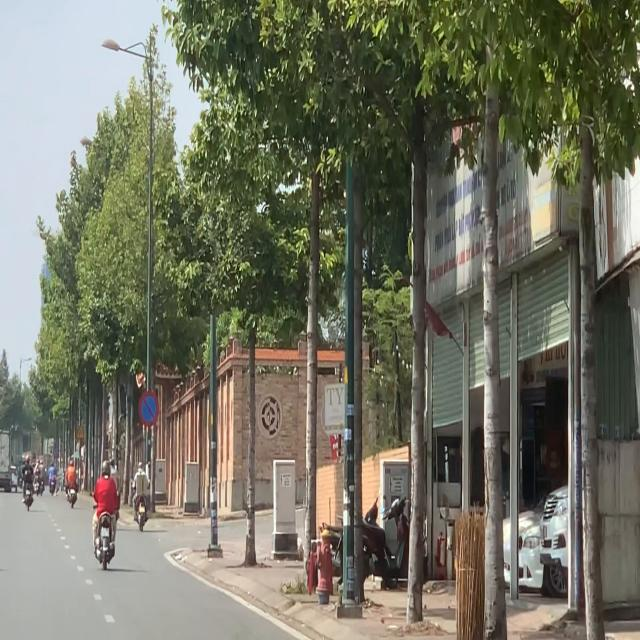Cam do: (138, 391, 160, 426)
Nguy hiem: (76, 423, 85, 439)
